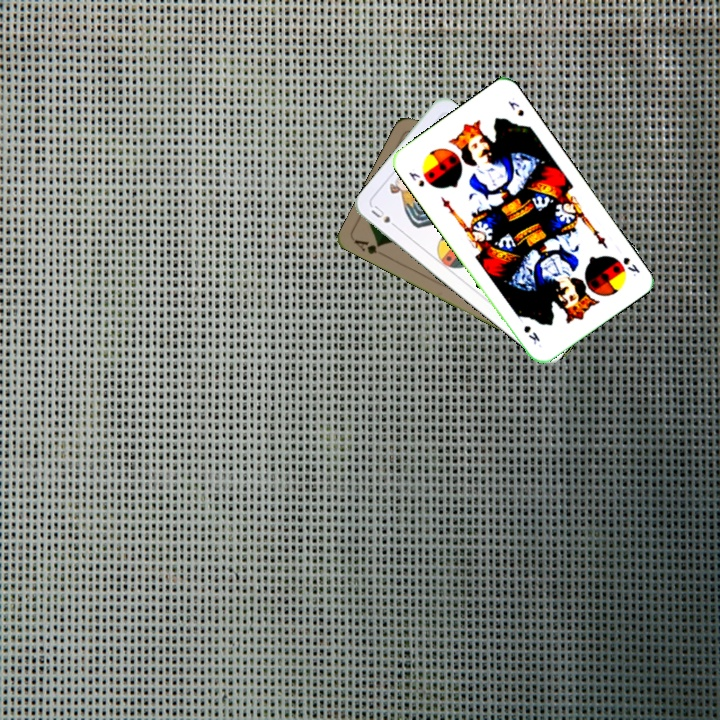GA: (351, 236, 389, 259)
SK: (619, 253, 643, 279), (405, 168, 427, 190)
SU: (367, 201, 402, 232)
